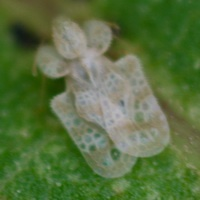insect: (36, 17, 169, 176)
